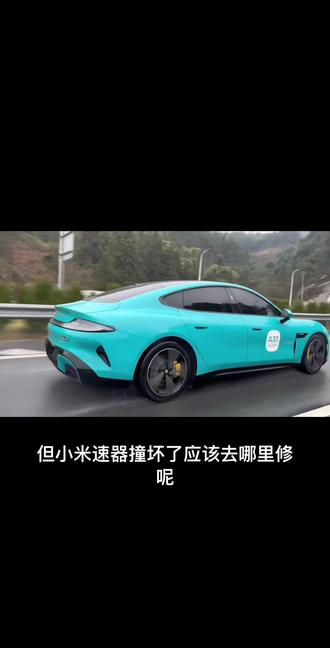su7: (48, 272, 330, 391)
